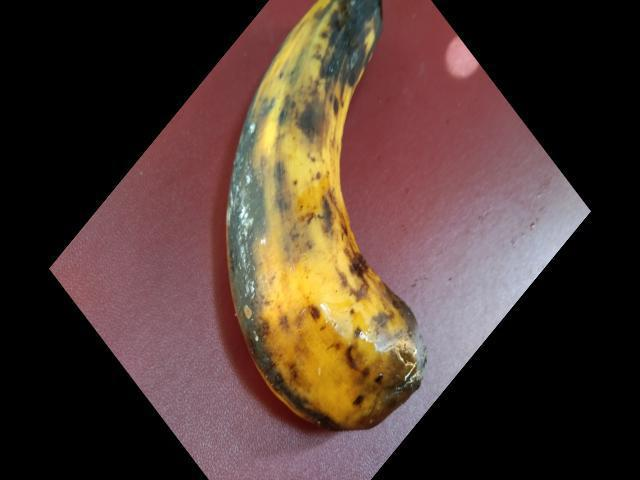rotten: (204, 0, 459, 439)
